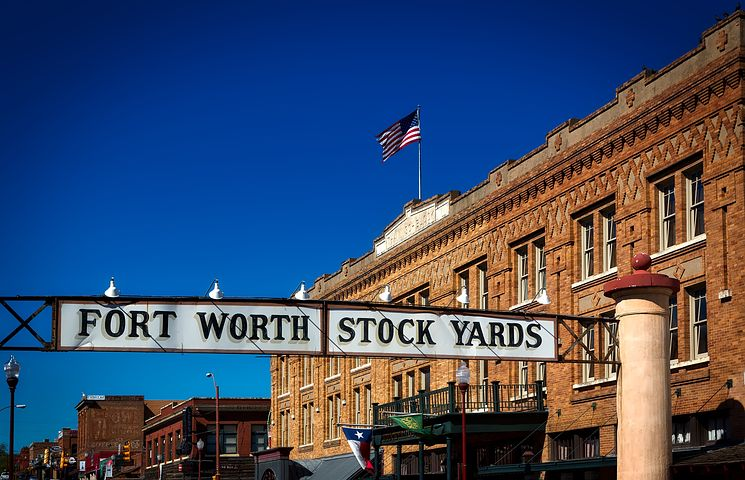Flag: (374, 109, 427, 165)
